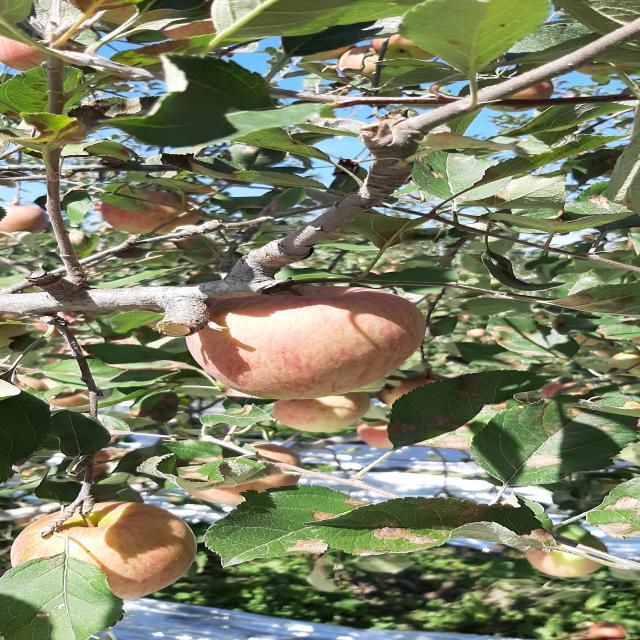fresh: (184, 276, 441, 408)
